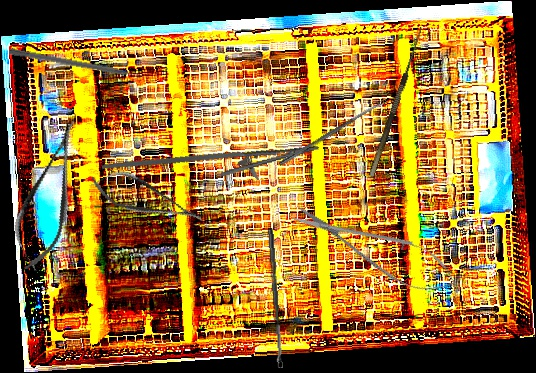Hook Surgical: (360, 23, 426, 178)
Micro Scissor: (285, 191, 466, 306), (2, 113, 97, 277), (85, 160, 210, 238)
Needle Holder: (101, 119, 323, 211)
Pusher: (8, 47, 150, 83)
Surgical Spoon: (278, 98, 388, 167), (267, 227, 283, 369)
